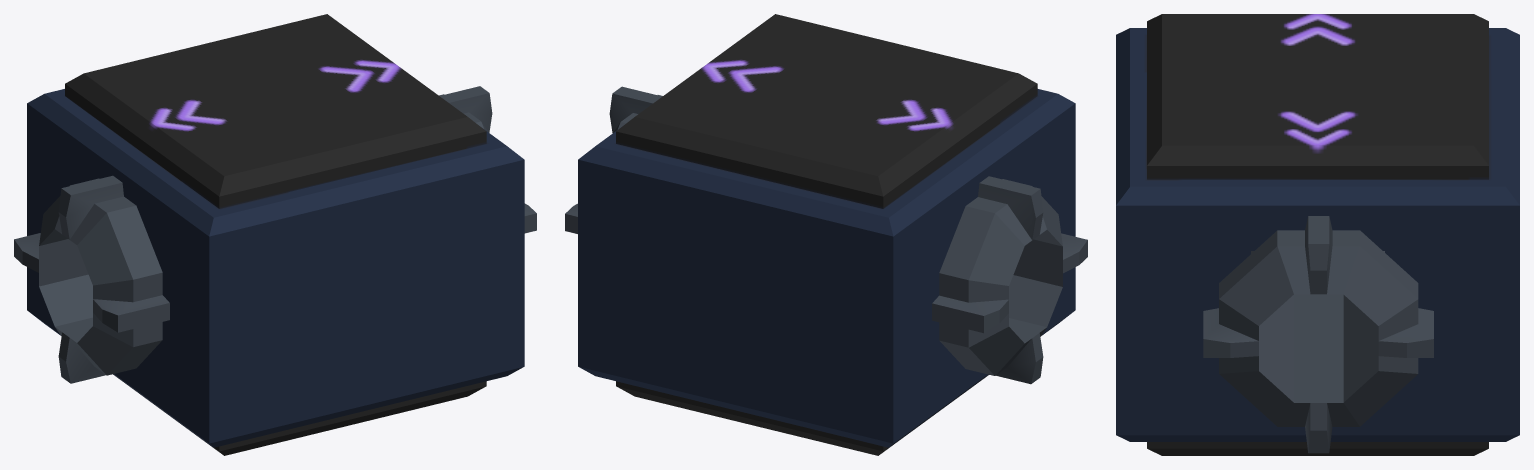
File: Turret2.fbx
3 views of the same model, side by side, from view 1: azimuth 30°, elevation 25°; view 2: azimuth 150°, elevation 25°; view 3: azimuth 270°, elevation 25° (orthographic). The views are drawn at different scales.
Parts seen in each view (by area): view 1: polySurface3; view 2: polySurface3; view 3: polySurface3.
Part boxes in pixels (left/top/right/bottom): polySurface3: left=14, top=14, right=536, bottom=455; polySurface3: left=565, top=14, right=1087, bottom=455; polySurface3: left=1116, top=14, right=1519, bottom=455.
Size of the model in its own units: 31.9 by 20 by 23.6.
1 material, 1 textured.
